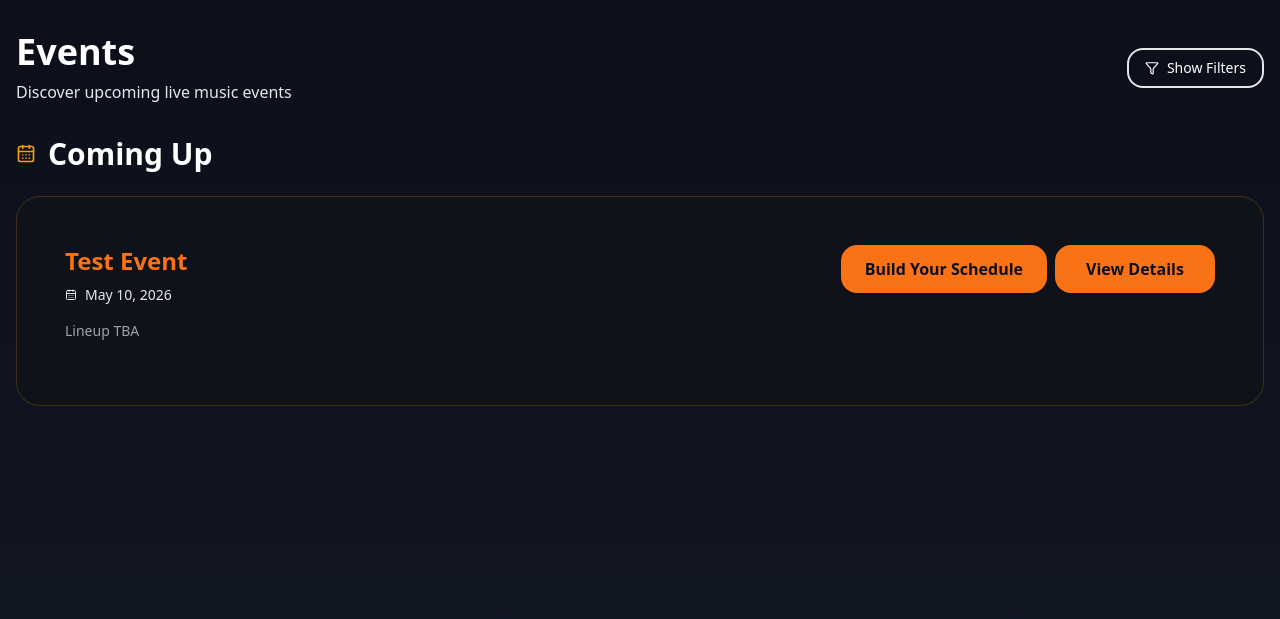
Scenario: EventTimeline Venues grid directions (#754) › renders a directions link with the venue name in its accessible name
Check: the heading "Test Event" is shown, box [65, 244, 188, 277]
Click the button "View Details" at (1135, 269), box [1055, 245, 1215, 293]
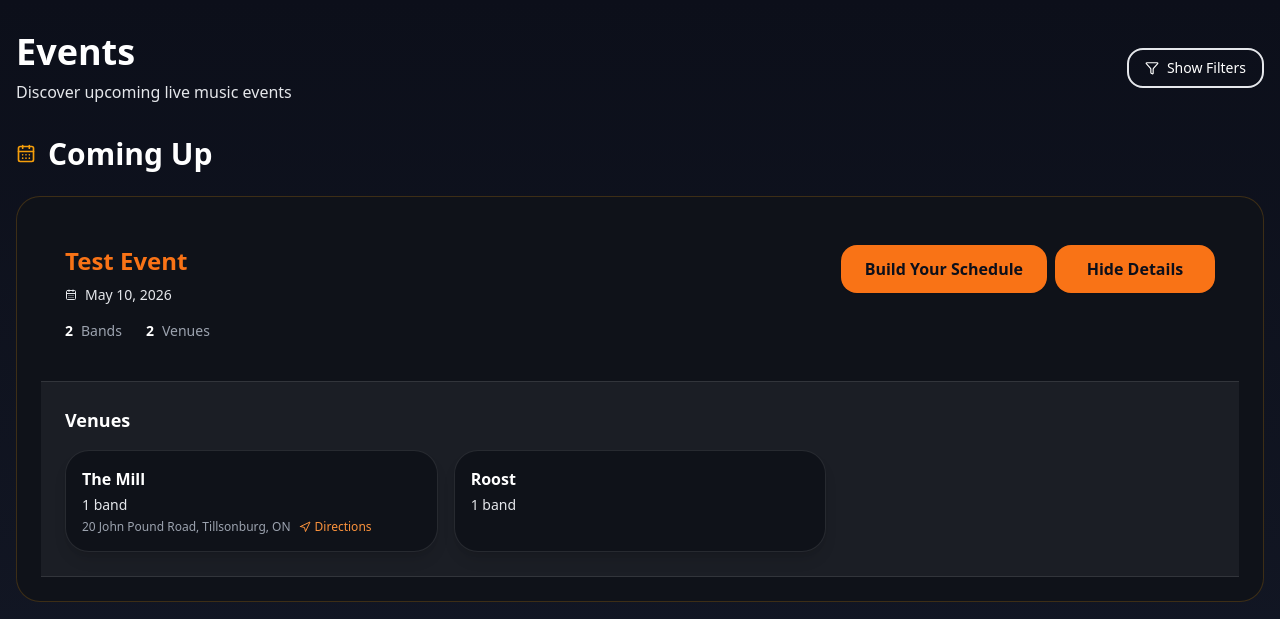
Check: the text "The Mill" is shown, box [82, 468, 145, 490]
Check: the link with aria-label "Directions to The Mill" reads "Directions", box [299, 519, 372, 535]
